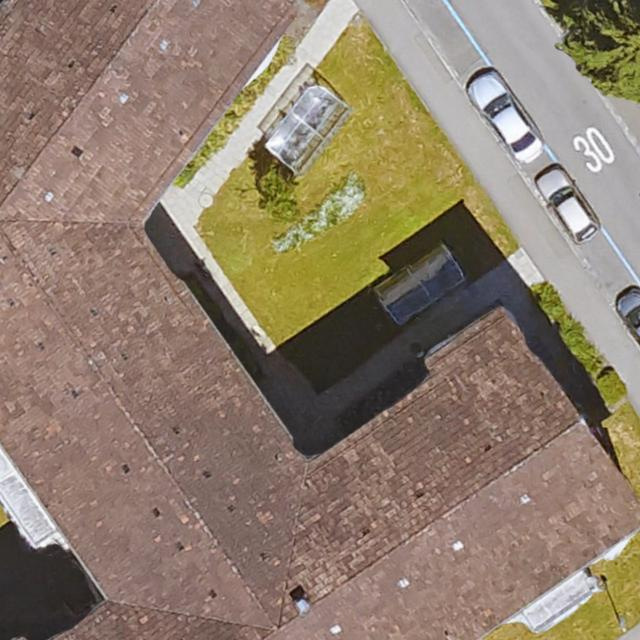tree: (556, 0, 640, 95)
